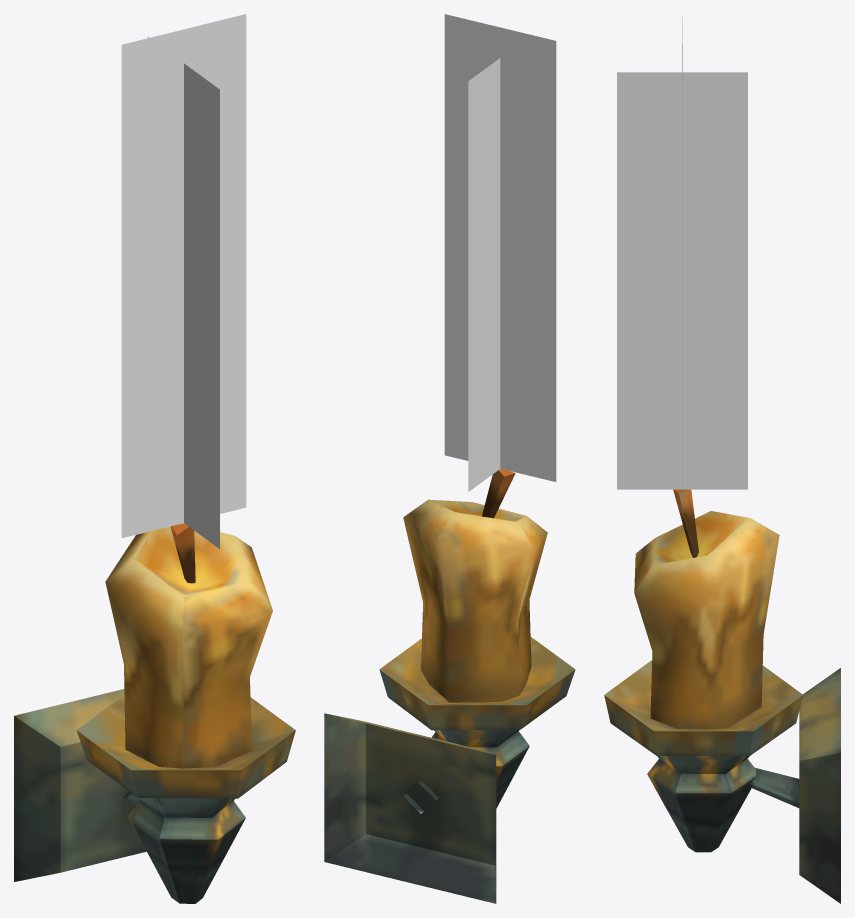
The model's file is crypt_wall_light01.fbx.
3 views of the same model, side by side, from view 1: azimuth 30°, elevation 25°; view 2: azimuth 150°, elevation 25°; view 3: azimuth 270°, elevation 25° (orthographic). The views are drawn at different scales.
Parts seen in each view (by area): view 1: crypt_wall_light01-0; view 2: crypt_wall_light01-0; view 3: crypt_wall_light01-0.
Part boxes in pixels (x1=…): crypt_wall_light01-0: x1=14, y1=14, x2=295, y2=903; crypt_wall_light01-0: x1=324, y1=14, x2=575, y2=903; crypt_wall_light01-0: x1=604, y1=17, x2=840, y2=903.
Bounding box in the file's own units: 0.4535 × 2.02 × 0.5323.
